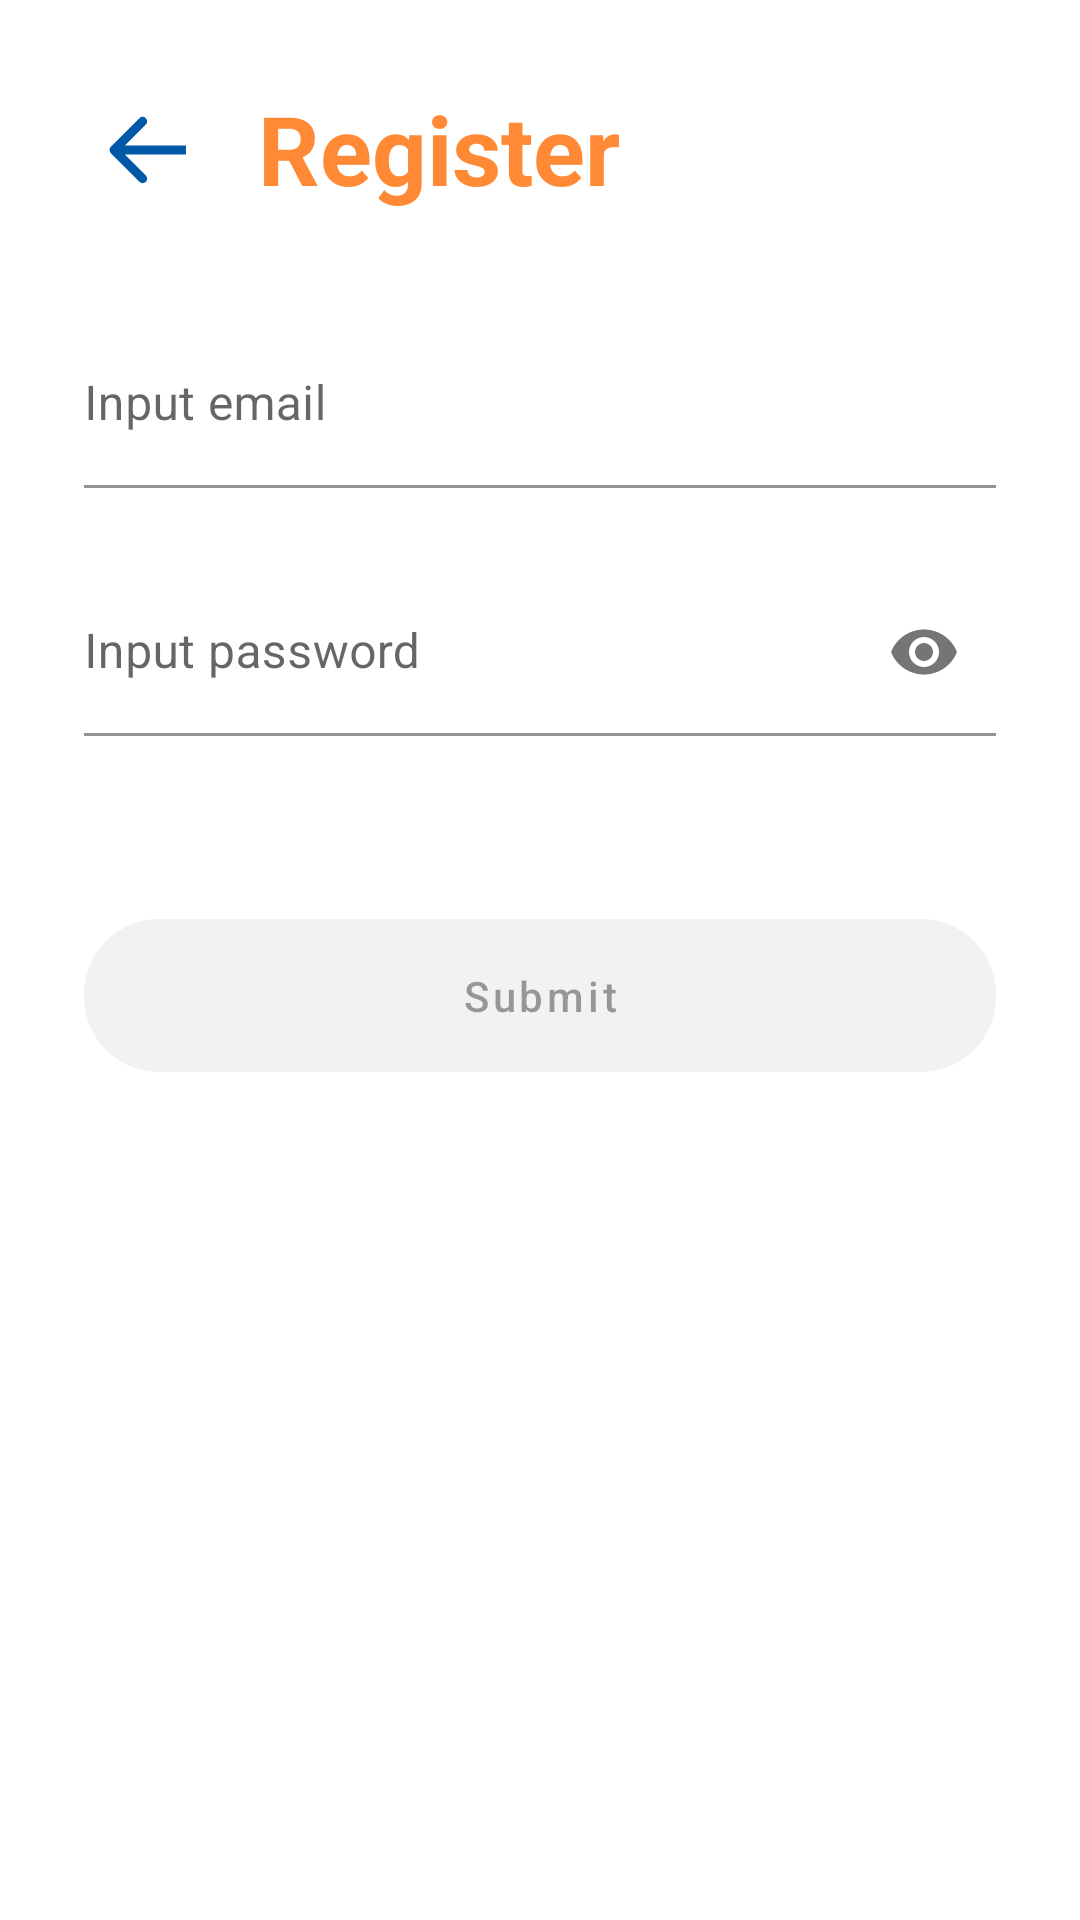

Icons on this 1080 × 1920 Android screen, each with its box as (x1, y1, x2, y2):
arrow back: (109, 116, 186, 184)
